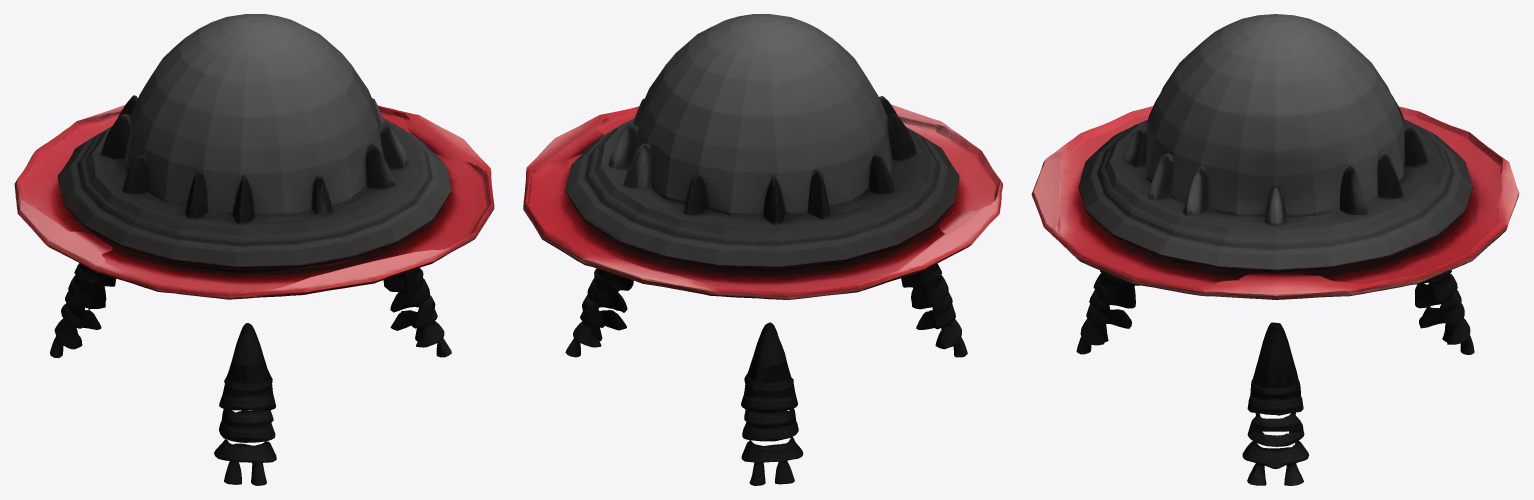
The model's file is voxhammer_t02.glb.
3 views of the same model, side by side, from view 1: azimuth 30°, elevation 25°; view 2: azimuth 150°, elevation 25°; view 3: azimuth 270°, elevation 25° (orthographic).
Visible parts, largest first — view 1: geometry_0; view 2: geometry_0; view 3: geometry_0.
Part boxes in pixels (bbox=[...]): geometry_0: bbox=[14, 14, 494, 485]; geometry_0: bbox=[523, 14, 1002, 485]; geometry_0: bbox=[1031, 14, 1519, 485].
Bounding box in the file's own units: 2 × 1.69 × 2.
1 material, 1 textured.
